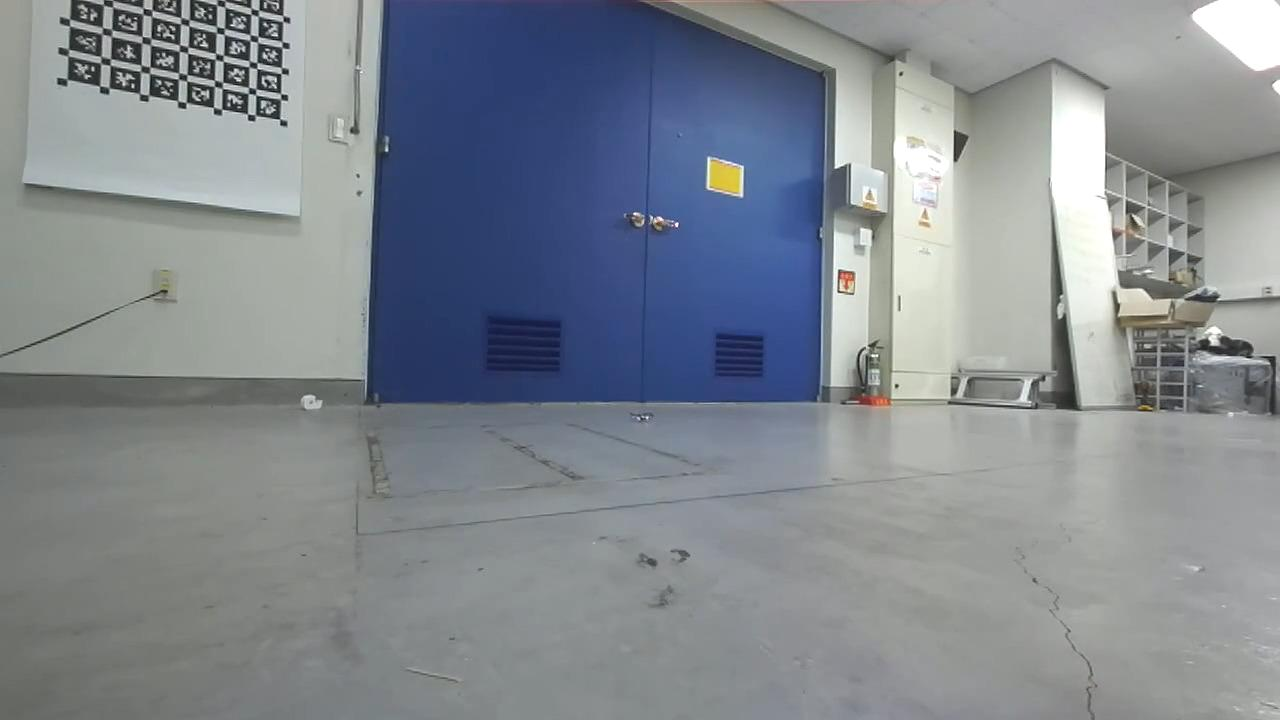crazyflie: (615, 403, 667, 429)
